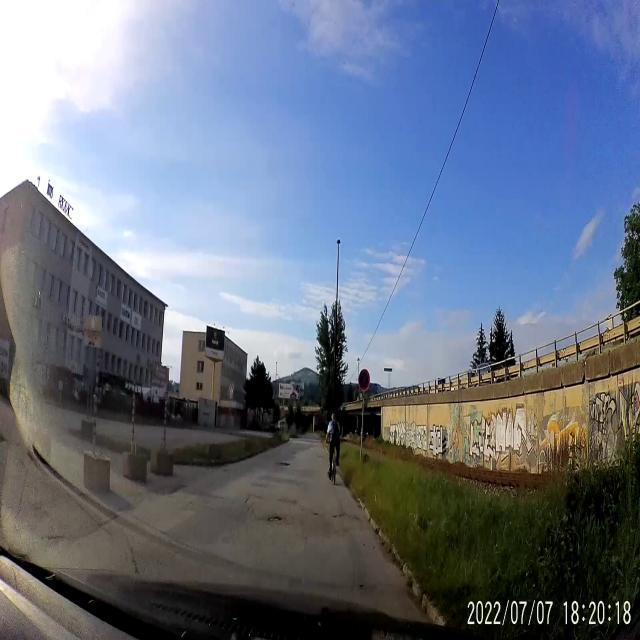Pothole: (327, 505, 356, 531), (163, 478, 190, 499), (244, 489, 264, 509), (268, 509, 286, 529), (276, 494, 298, 508), (274, 458, 293, 470), (220, 468, 230, 476)
